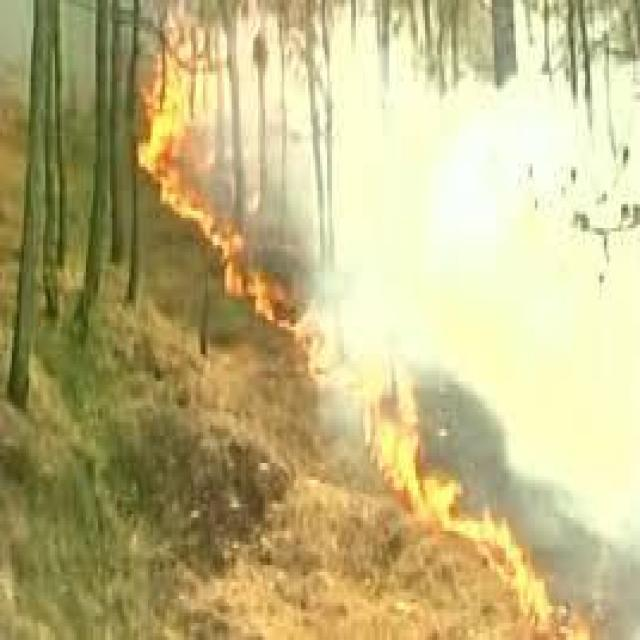Fire: (120, 4, 298, 392), (344, 417, 576, 640)
Smoke: (316, 32, 638, 520)
